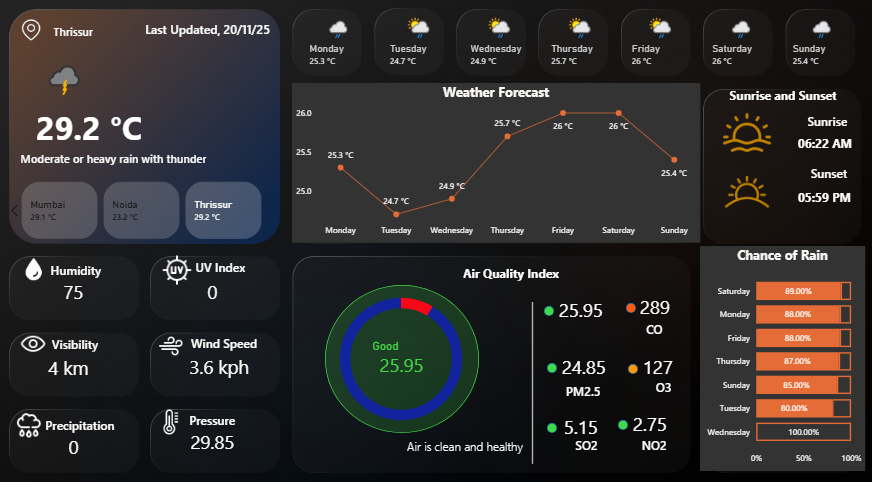

The page's visual inventory and layout, read from the dashboard file:
{"tool":"powerbi","page":{"name":"Page 1","canvas":[1280,720],"ordinal":0},"visuals":[{"type":"shape","box":[479.5,420.5,221.8,213.1],"z":0},{"type":"advancedSlicerVisual","fields":{"Values":["Locations.location.name"],"Label":["_Measures.Curr_Temp_C"]},"box":[16.7,267,397.2,93.5],"z":1000},{"type":"shape","box":[31.6,128.4,216.3,128.4],"z":2000},{"type":"shape","box":[31.3,220.7,286.9,36.8],"z":3000},{"type":"shape","box":[31.6,36.9,170.5,36.9],"z":4000},{"type":"shape","box":[202.2,33.4,198.7,36.9],"z":5000},{"type":"image","box":[15.8,33.4,80.9,40.4],"z":6000},{"type":"cardVisual","fields":{"Data":["Min(Current.current.condition.icon)"]},"box":[45.7,73.8,107.3,91.4],"z":7000},{"type":"image","box":[31.6,480,54.5,51],"z":8000},{"type":"shape","box":[56.3,487,96.7,36.9],"z":9000},{"type":"image","box":[22.9,376.3,73.8,44],"z":10000},{"type":"shape","box":[59.8,379.8,96.7,36.9],"z":11000},{"type":"image","box":[230.3,371,72.1,54.5],"z":12000},{"type":"shape","box":[267.3,376.3,96.7,36.9],"z":13000},{"type":"image","box":[22.9,596,59.8,52.7],"z":14000},{"type":"shape","box":[59.8,603.1,116,36.9],"z":15000},{"type":"image","box":[230.3,485.3,54.5,45.7],"z":16000},{"type":"shape","box":[284.8,485.3,96.7,36.9],"z":17000},{"type":"image","box":[230.3,594.3,54.5,45.7],"z":18000},{"type":"shape","box":[253.2,596,96.7,36.9],"z":19000},{"type":"card","fields":{"Values":["Sum(Current.current.humidity)"]},"box":[70.3,399.1,93.2,65.1],"z":20000},{"type":"card","fields":{"Values":["_Measures.Wind_Speed1"]},"box":[270.3,507.6,112.2,66.2],"z":21000},{"type":"card","fields":{"Values":["Sum(Current.current.pressure_in)"]},"box":[270.8,615.4,93.2,65.1],"z":22000},{"type":"card","fields":{"Values":["Sum(Current.current.uv)"]},"box":[270.8,399.1,93.2,65.1],"z":23000},{"type":"card","fields":{"Values":["_Measures.Visibility_km"]},"box":[63.3,508.1,93.2,65.1],"z":24000},{"type":"card","fields":{"Values":["Sum(Current.current.precip_in)"]},"box":[69.9,621.6,93.8,64.4],"z":25000},{"type":"advancedSlicerVisual","fields":{"Values":["Forecast_day.Day_Name"]},"box":[439.5,23.9,818.4,99.3],"z":26000},{"type":"lineChart","title":"Weather Forecast","fields":{"Y":["Sum(Forecast_day.forecast.forecastday.day.avgtemp_c)"],"Category":["Forecast_day.Day_Name"]},"box":[432,129.6,587.5,230.4],"z":27000},{"type":"shape","box":[1053.6,128.5,162.2,36.9],"z":28000},{"type":"shape","box":[1127.5,177.1,129.6,80.6],"z":29000},{"type":"shape","box":[1131.8,263.5,122.4,73.4],"z":30000},{"type":"image","box":[1039.7,234.2,94.9,103],"z":31000},{"type":"image","box":[1039.7,161.5,94.9,78.7],"z":32000},{"type":"shape","box":[1134.6,165.6,96.9,36.3],"z":33000},{"type":"shape","box":[1134.6,240.3,96.9,36.3],"z":34000},{"type":"hundredPercentStackedBarChart","title":"Chance of Rain","fields":{"Y":["Sum(Forecast_day.forecast.forecastday.day.daily_chance_of_rain)","Current.Left_value_Rain"],"Category":["Forecast_day.Day_Name"]},"box":[1029.6,375.8,227.5,319.7],"z":35000},{"type":"shape","box":[653.8,384.5,162.7,37.4],"z":36000},{"type":"card","fields":{"Values":["Sum(Current.current.air_quality.co)"]},"box":[915.4,419.2,77.1,67.5],"z":37000},{"type":"shape","box":[941.1,465.7,24.1,36.9],"z":38000},{"type":"card","fields":{"Values":["Sum(Current.current.air_quality.pm10)"]},"box":[809.4,430.4,77.1,54.6],"z":39000},{"type":"card","fields":{"Values":["Sum(Current.current.air_quality.pm2_5)"]},"box":[814.3,512.3,77.1,54.6],"z":41000},{"type":"shape","box":[814.3,554.1,62.6,36.9],"z":42000},{"type":"card","fields":{"Values":["Sum(Current.current.air_quality.o3)"]},"box":[920.3,512.3,77.1,54.6],"z":43000},{"type":"shape","box":[915.4,549.3,62.6,36.9],"z":44000},{"type":"card","fields":{"Values":["Sum(Current.current.air_quality.so2)"]},"box":[809.4,599,77.1,54.6],"z":45000},{"type":"shape","box":[820.7,632.8,51.4,36.9],"z":46000},{"type":"card","fields":{"Values":["Sum(Current.current.air_quality.no2)"]},"box":[909,594.2,77.1,54.6],"z":47000},{"type":"shape","box":[920.3,632.8,51.4,36.9],"z":48000},{"type":"shape","box":[794.9,450.7,14.4,14.4],"z":49000},{"type":"shape","box":[913,446.4,14.4,14.4],"z":50000},{"type":"shape","box":[799.2,532.8,14.4,14.4],"z":51000},{"type":"shape","box":[915.8,534.2,14.4,14.4],"z":52000},{"type":"shape","box":[799.2,619.2,14.4,14.4],"z":53000},{"type":"shape","box":[901.4,614.9,14.4,14.4],"z":54000},{"type":"shape","box":[756,445,44.6,233.3],"z":55000},{"type":"card","fields":{"Values":["Sum(Current.current.air_quality.pm10)"]},"box":[542.9,498.2,93.6,56.2],"z":56000},{"type":"donutChart","fields":{"Y":["Sum(Current.current.air_quality.pm10)","_Measures.Left_Value_PM10"]},"box":[455,411.8,267.8,230.4],"z":57000},{"type":"shape","box":[427.7,623.5,337,57.6],"z":57001}]}

Visuals, with their boxes in screenshot pixels (x1, y1, x2, y2), scaled from the page's 1280x720 canvas onto the 872x482 screenshot:
shape: (327,282,478,424)
advancedSlicerVisual - Locations.location.name x _Measures.Curr_Temp_C: (11,179,282,241)
shape: (22,86,169,172)
shape: (21,148,217,172)
shape: (22,25,138,49)
shape: (138,22,273,47)
image: (11,22,66,49)
cardVisual - Min(Current.current.condition.icon): (31,49,104,111)
image: (22,321,59,355)
shape: (38,326,104,351)
image: (16,252,66,281)
shape: (41,254,107,279)
image: (157,248,206,285)
shape: (182,252,248,277)
image: (16,399,56,434)
shape: (41,404,120,428)
image: (157,325,194,355)
shape: (194,325,260,350)
image: (157,398,194,428)
shape: (172,399,238,424)
card - Sum(Current.current.humidity): (48,267,111,311)
card - _Measures.Wind_Speed1: (184,340,261,384)
card - Sum(Current.current.pressure_in): (184,412,248,456)
card - Sum(Current.current.uv): (184,267,248,311)
card - _Measures.Visibility_km: (43,340,107,384)
card - Sum(Current.current.precip_in): (48,416,112,459)
advancedSlicerVisual - Forecast_day.Day_Name: (299,16,857,82)
"Weather Forecast" lineChart: (294,87,695,241)
shape: (718,86,828,111)
shape: (768,119,856,173)
shape: (771,176,854,226)
image: (708,157,773,226)
image: (708,108,773,161)
shape: (773,111,839,135)
shape: (773,161,839,185)
"Chance of Rain" hundredPercentStackedBarChart: (701,252,856,466)
shape: (445,257,556,282)
card - Sum(Current.current.air_quality.co): (624,281,676,326)
shape: (641,312,658,336)
card - Sum(Current.current.air_quality.pm10): (551,288,604,325)
card - Sum(Current.current.air_quality.pm2_5): (555,343,607,380)
shape: (555,371,597,396)
card - Sum(Current.current.air_quality.o3): (627,343,679,380)
shape: (624,368,666,392)
card - Sum(Current.current.air_quality.so2): (551,401,604,438)
shape: (559,424,594,448)
card - Sum(Current.current.air_quality.no2): (619,398,672,434)
shape: (627,424,662,448)
shape: (542,302,551,311)
shape: (622,299,632,308)
shape: (544,357,554,366)
shape: (624,358,634,367)
shape: (544,415,554,424)
shape: (614,412,624,421)
shape: (515,298,545,454)
card - Sum(Current.current.air_quality.pm10): (370,334,434,371)
donutChart - Sum(Current.current.air_quality.pm10) x _Measures.Left_Value_PM10: (310,276,492,430)
shape: (291,417,521,456)
